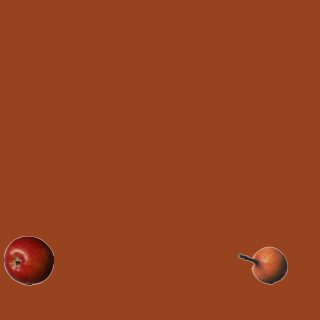Apple Braeburn: (3, 235, 53, 285)
Granadilla: (237, 240, 287, 290)
